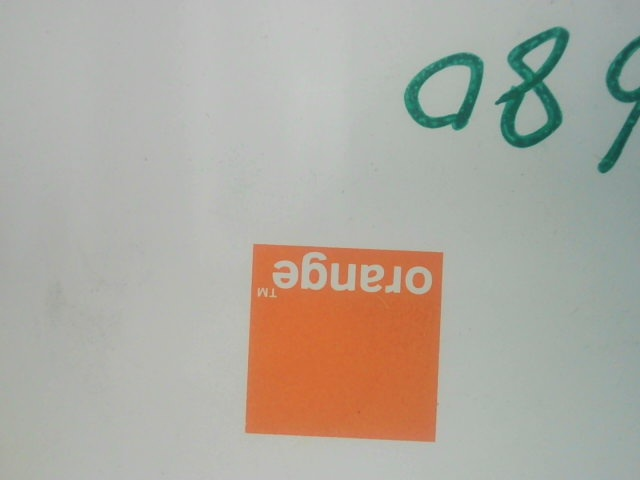AR_Orange: (248, 231, 445, 447)
